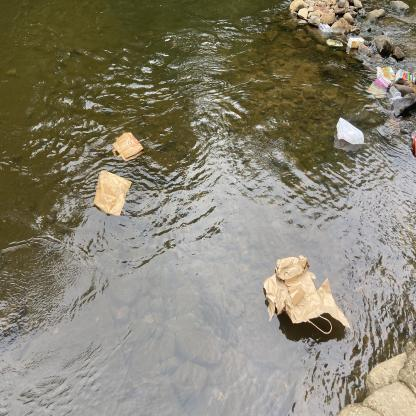trash: (260, 252, 355, 344), (90, 162, 136, 220), (107, 127, 150, 169), (331, 112, 371, 154), (363, 73, 394, 100), (374, 64, 396, 84), (316, 18, 336, 38), (394, 68, 416, 86), (347, 36, 365, 50), (367, 42, 382, 58), (324, 38, 344, 48), (388, 86, 402, 100), (388, 96, 404, 104), (412, 134, 416, 157), (410, 130, 416, 140)
